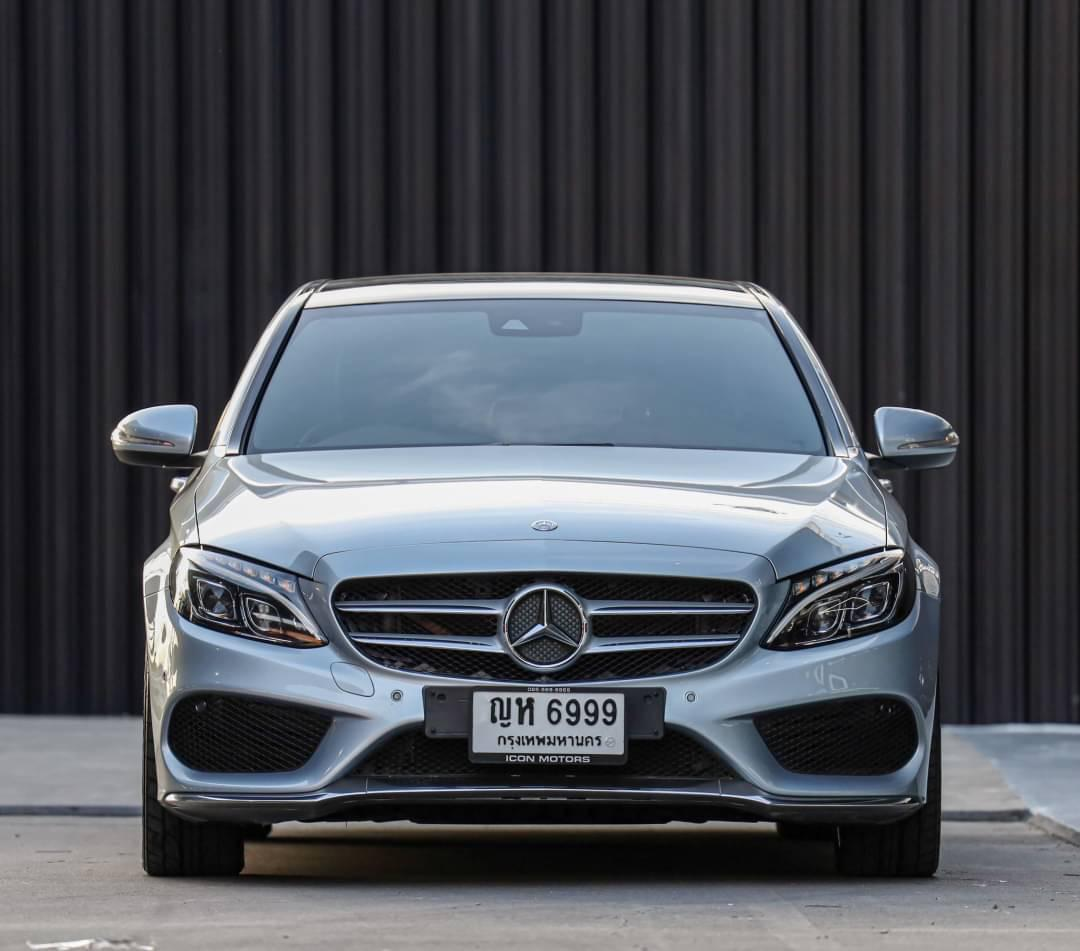license-plate: (468, 684, 632, 764)
